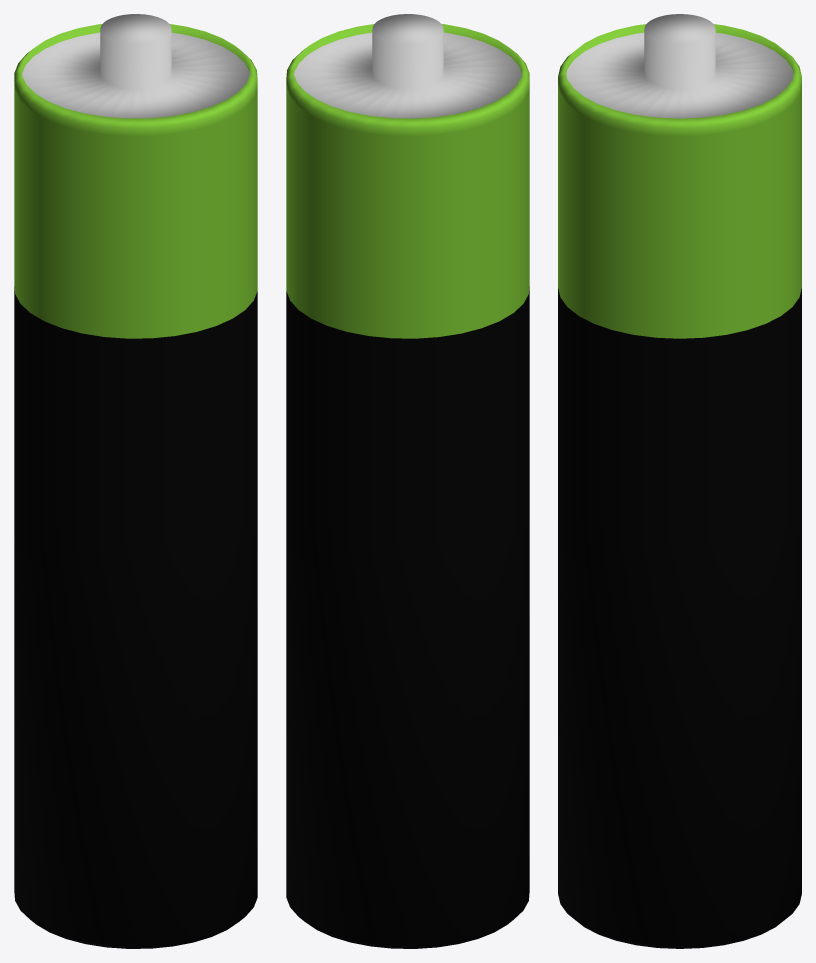
File: battery.obj
The picture shows the model from 3 angles, left to right: view 1: azimuth 30°, elevation 25°; view 2: azimuth 150°, elevation 25°; view 3: azimuth 270°, elevation 25°; orthographic projection.
Parts seen in each view (by area): view 1: Cylinder; view 2: Cylinder; view 3: Cylinder.
Part boxes in pixels (left/top/right/bottom): Cylinder: left=14, top=14, right=257, bottom=948; Cylinder: left=286, top=14, right=529, bottom=948; Cylinder: left=558, top=14, right=801, bottom=948.
Size of the model in its own units: 2 by 7.89 by 2.
